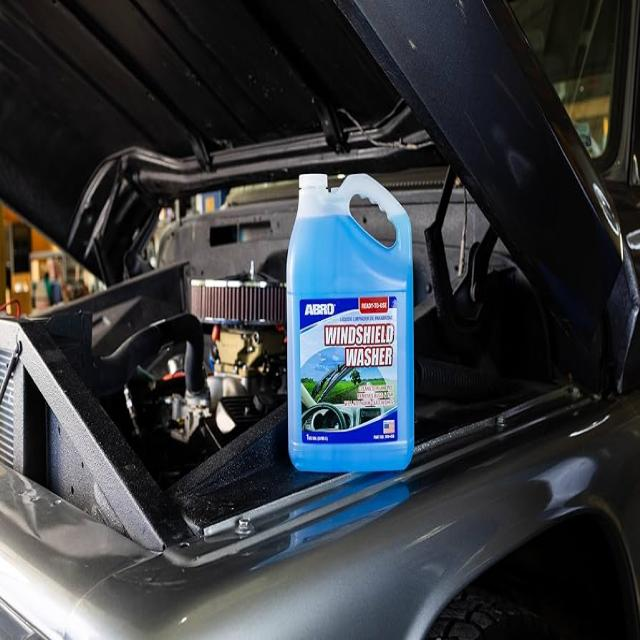winwinshield_washer: (286, 168, 418, 474)
